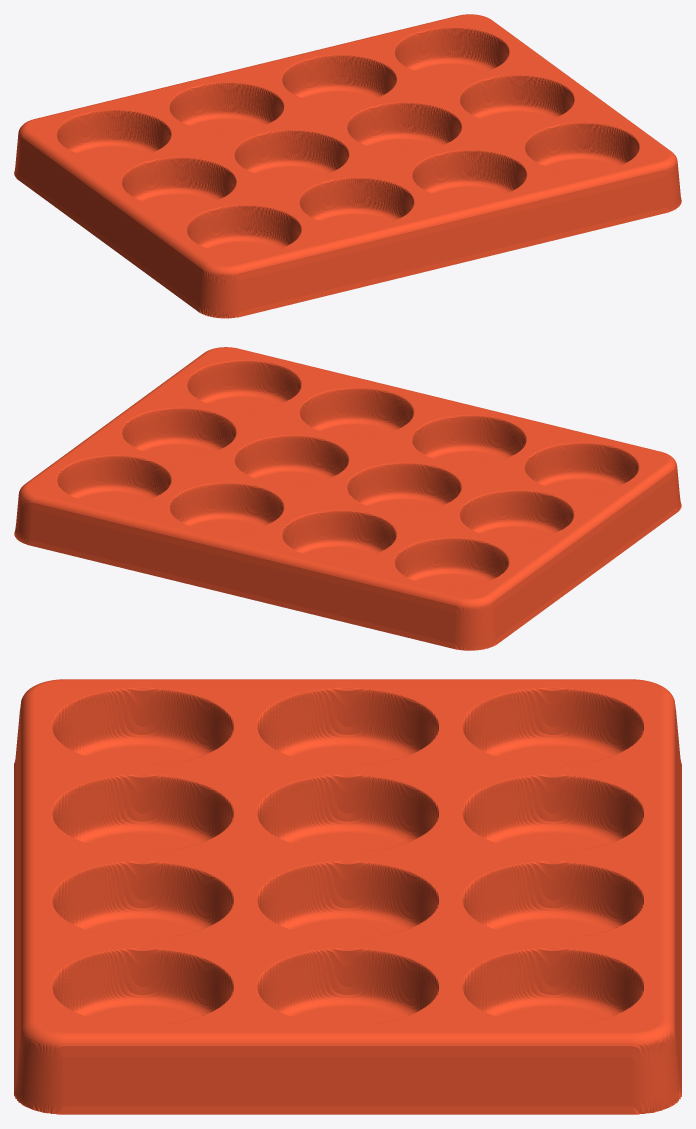
The model's file is mold.glb.
The picture shows the model from 3 angles, top to bottom: view 1: azimuth 30°, elevation 25°; view 2: azimuth 150°, elevation 25°; view 3: azimuth 270°, elevation 25°; orthographic projection. The views are drawn at different scales.
Parts seen in each view (by area): view 1: geometry_0; view 2: geometry_0; view 3: geometry_0.
Part boxes in pixels (x1,y1,x2,y2): geometry_0: (14, 14, 681, 318); geometry_0: (14, 347, 681, 650); geometry_0: (14, 679, 681, 1114).
Bounding box in the file's own units: 0.1558 × 0.0145 × 0.1192.
